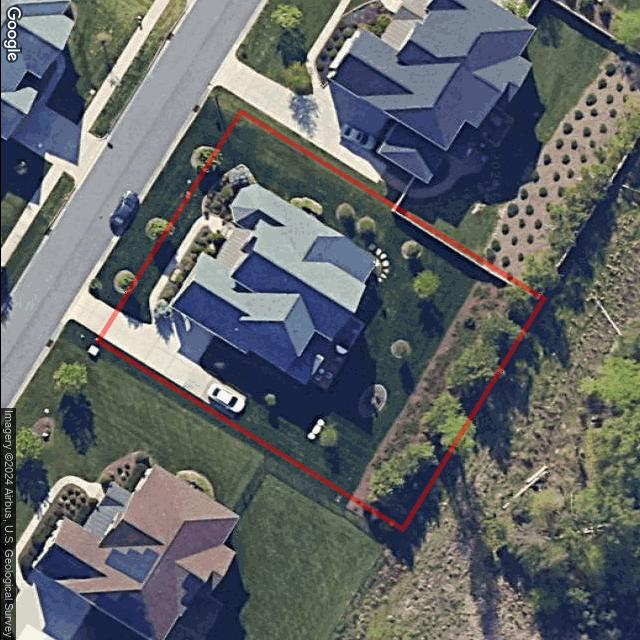Driveway: (99, 307, 247, 422)
Extra-Driveway: (71, 292, 117, 337)
Extra-Lawn: (88, 96, 240, 310)
House: (167, 183, 378, 386)
Other: (351, 280, 544, 533), (156, 228, 226, 317), (332, 201, 390, 292), (309, 315, 364, 390), (202, 164, 255, 226), (356, 382, 386, 419), (306, 417, 337, 448), (412, 269, 438, 297), (293, 195, 322, 217), (398, 240, 422, 260), (388, 341, 410, 358)
Sidewalk: (148, 211, 232, 325)
